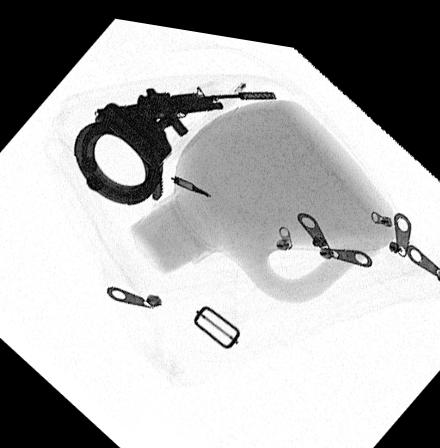Bullet: (173, 170, 210, 189)
Gun: (96, 80, 277, 130)
HandCuffs: (69, 88, 189, 201)
